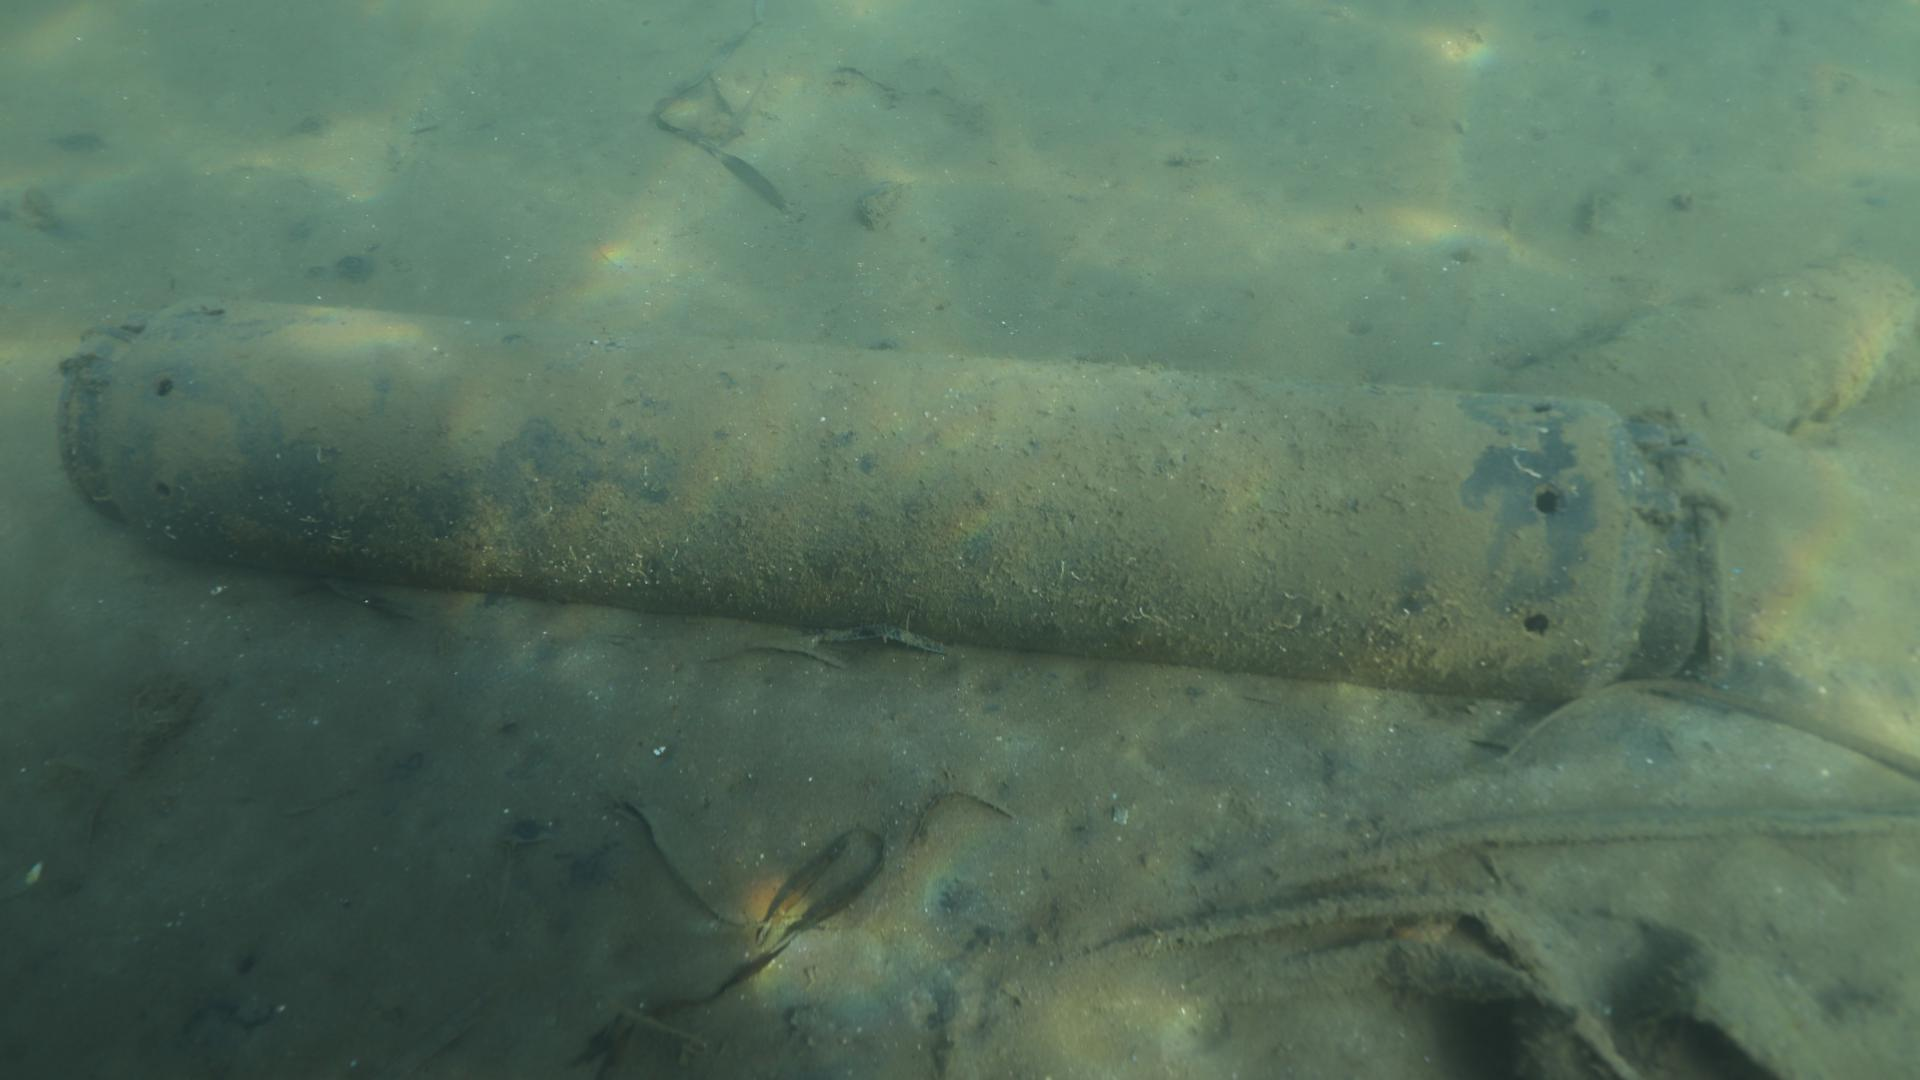eel fish trap: (54, 290, 1727, 705)
